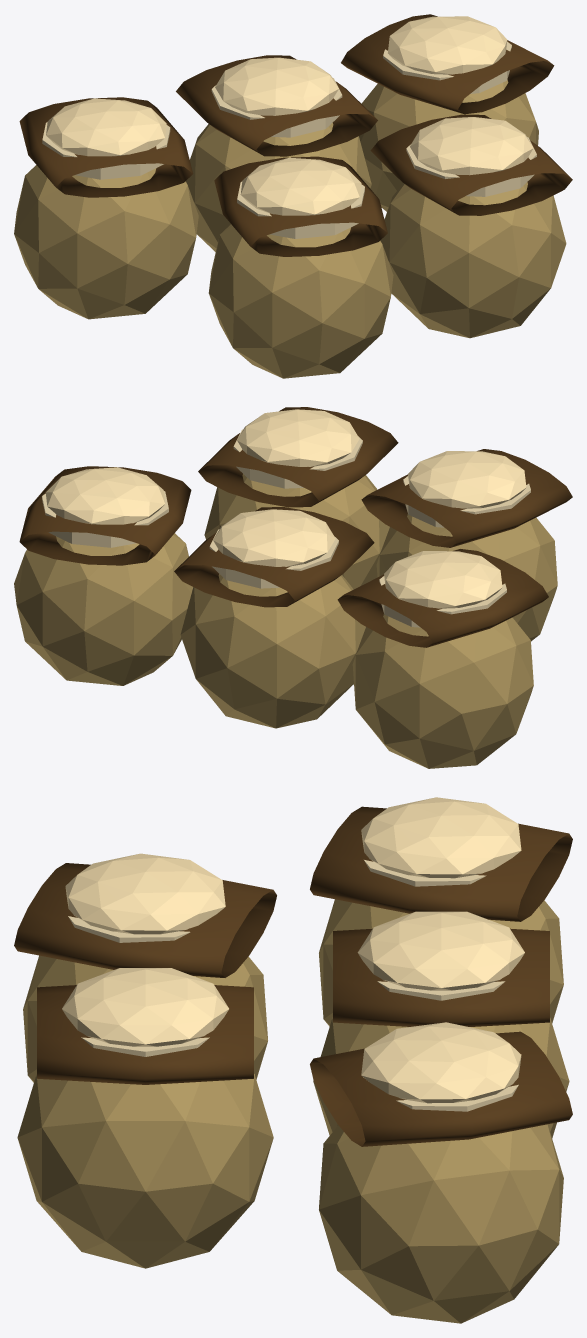
File: pile-flour-5.obj
The picture shows the model from 3 angles, top to bottom: view 1: azimuth 30°, elevation 25°; view 2: azimuth 150°, elevation 25°; view 3: azimuth 270°, elevation 25°; orthographic projection. The views are drawn at different scales.
Parts seen in each view (by area): view 1: pile-flour-5; view 2: pile-flour-5; view 3: pile-flour-5.
Part boxes in pixels (left/top/right/bottom): pile-flour-5: left=14, top=14, right=572, bottom=378; pile-flour-5: left=14, top=407, right=572, bottom=768; pile-flour-5: left=14, top=797, right=572, bottom=1323.
Bounding box in the file's own units: 0.7915 × 0.3065 × 0.567.
1 material, 1 textured.
